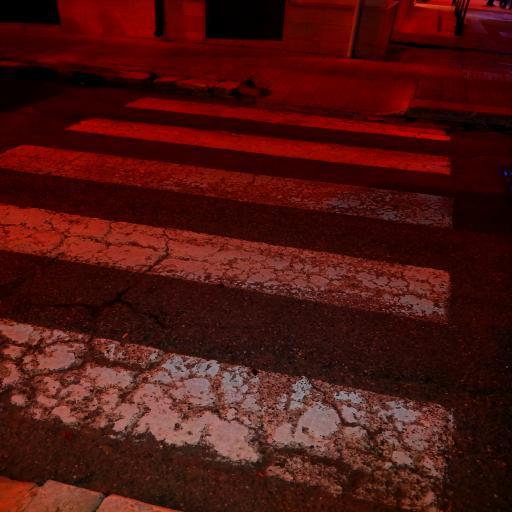crosswalk: (58, 93, 480, 181)
